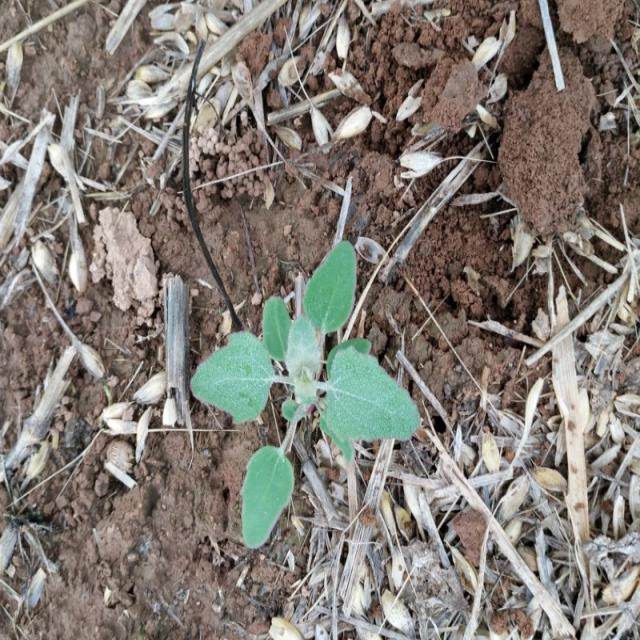goosefoots: (196, 272, 423, 533)
